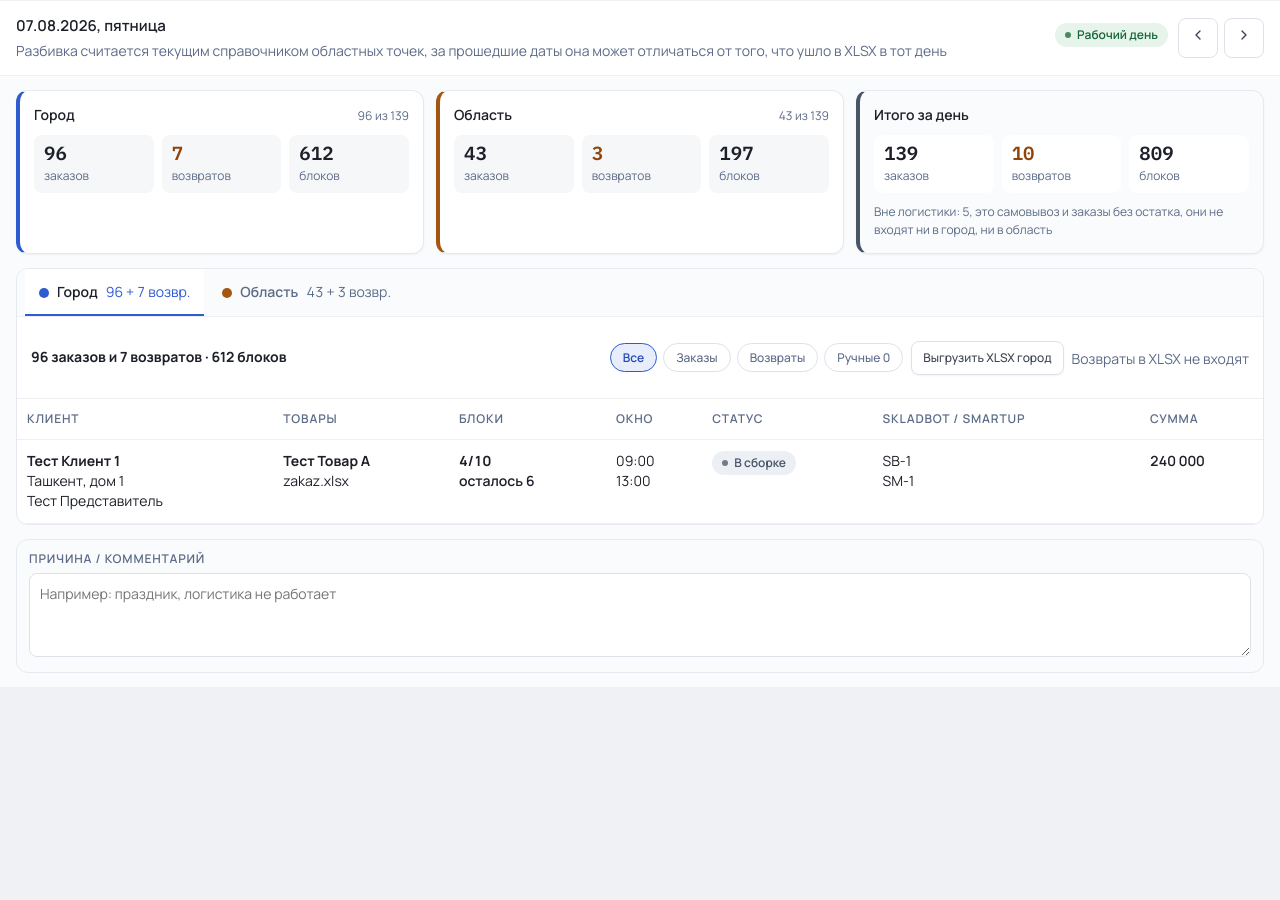
CalendarDayDetail › переключает вкладку на область и фильтрует возвраты
Expected: the row "Тест Клиент 1" is shown, [17,439,1263,523]
Expected: the row "Тест Клиент 2" is not shown
What coordinates should you click on to do the following:
click the tab "Область 43 + 3 возвр."
I would click on:
 (307, 293)
Its box is [208,270,405,316].
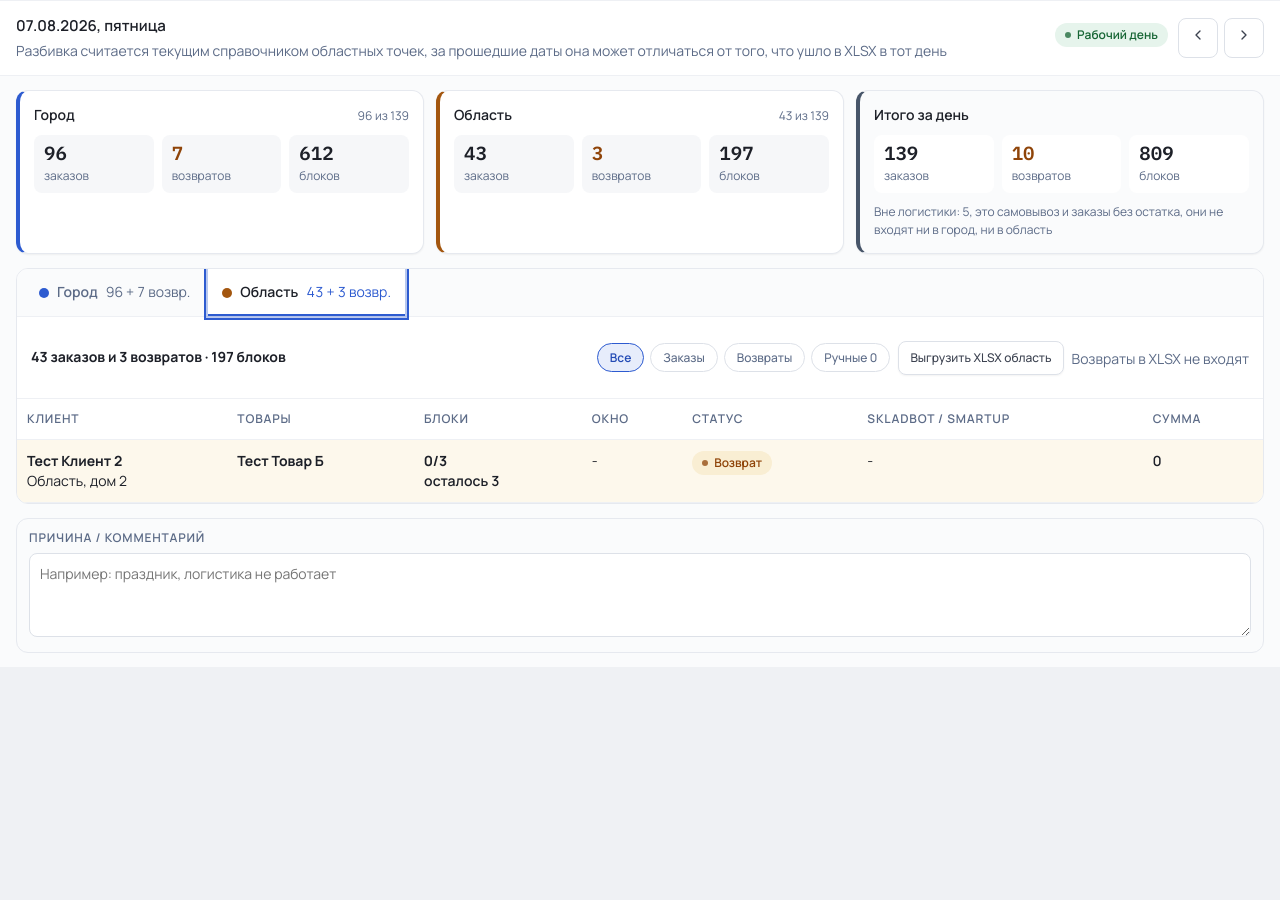
Now the row "Тест Клиент 2" is shown, box [17,439,1263,503]
What coordinates should you click on to do the following:
click the button "Заказы"
I would click on:
 (684, 358)
Its box is [650,343,718,372].
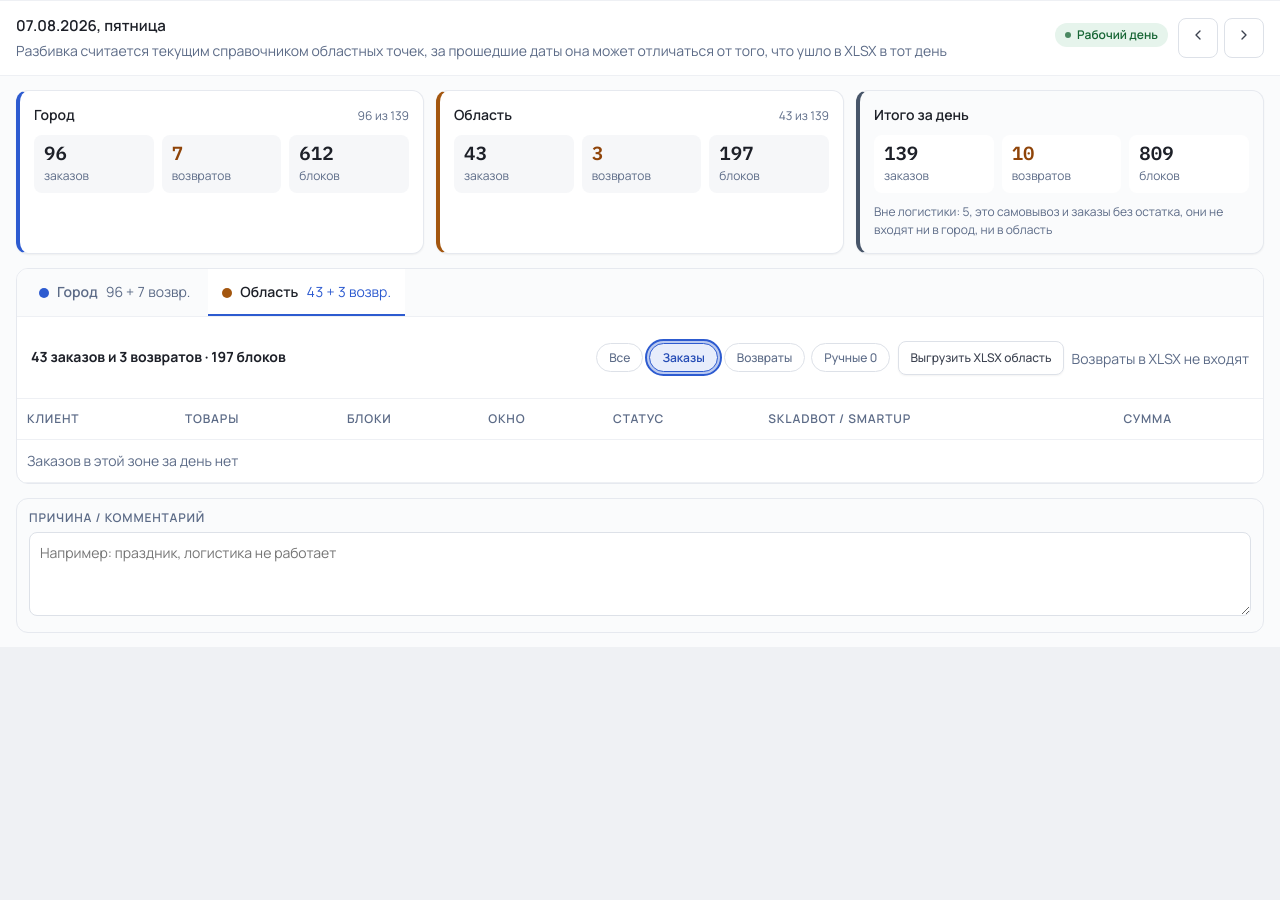
Now the text "Тест Клиент 2" is gone
